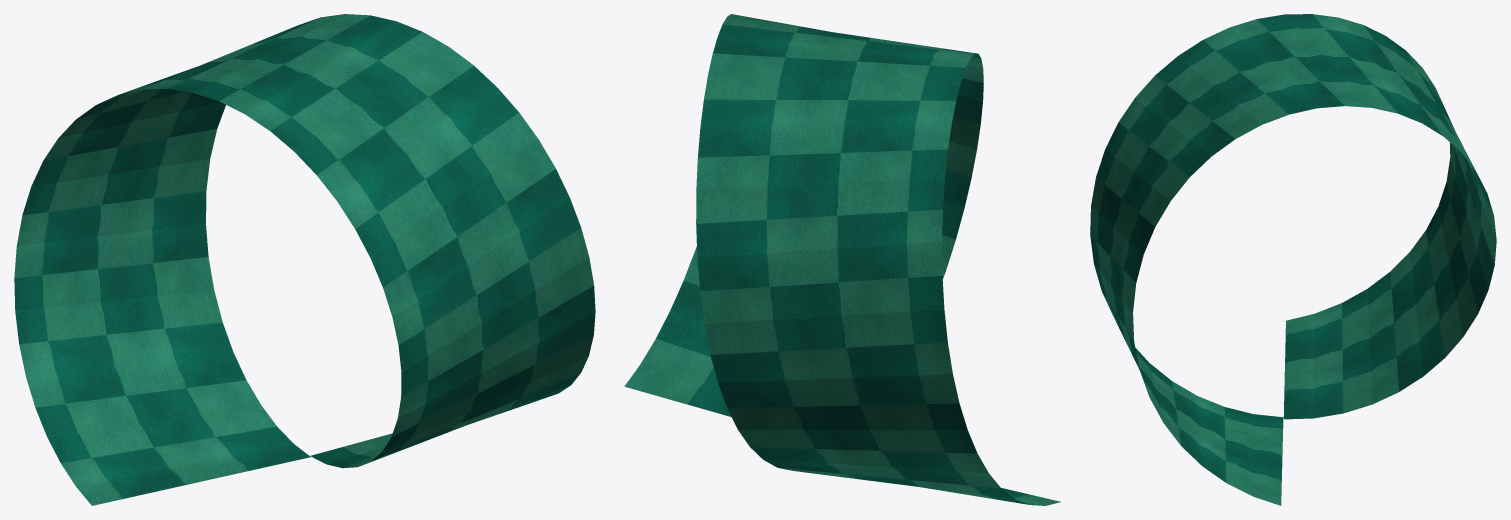
The model's file is PartBig2Coaster.gltf.
3 views of the same model, side by side, from view 1: azimuth 30°, elevation 25°; view 2: azimuth 150°, elevation 25°; view 3: azimuth 270°, elevation 25° (orthographic). The views are drawn at different scales.
Parts seen in each view (by area): view 1: PartBig2Coaster_glb; view 2: PartBig2Coaster_glb; view 3: PartBig2Coaster_glb.
Part boxes in pixels (x1,y1,x2,y2): PartBig2Coaster_glb: [14, 14, 595, 505]; PartBig2Coaster_glb: [624, 14, 1060, 505]; PartBig2Coaster_glb: [1090, 14, 1496, 505].
Size of what is drawn, in the model's own units: 7.94 by 6.93 by 7.15.
Materials: 1 (1 with a texture image).
